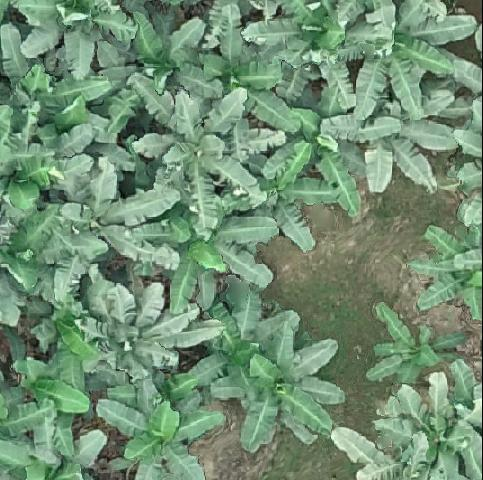Banana-plant: (123, 70, 289, 237), (68, 263, 226, 389), (241, 0, 398, 108), (228, 320, 349, 452), (186, 0, 304, 133), (43, 163, 184, 273), (351, 0, 477, 120), (262, 81, 372, 218), (155, 196, 279, 314), (98, 373, 229, 480), (374, 371, 483, 480), (358, 90, 464, 195), (20, 0, 138, 82), (116, 14, 224, 102), (367, 302, 471, 387), (410, 216, 483, 325), (0, 102, 64, 221)
